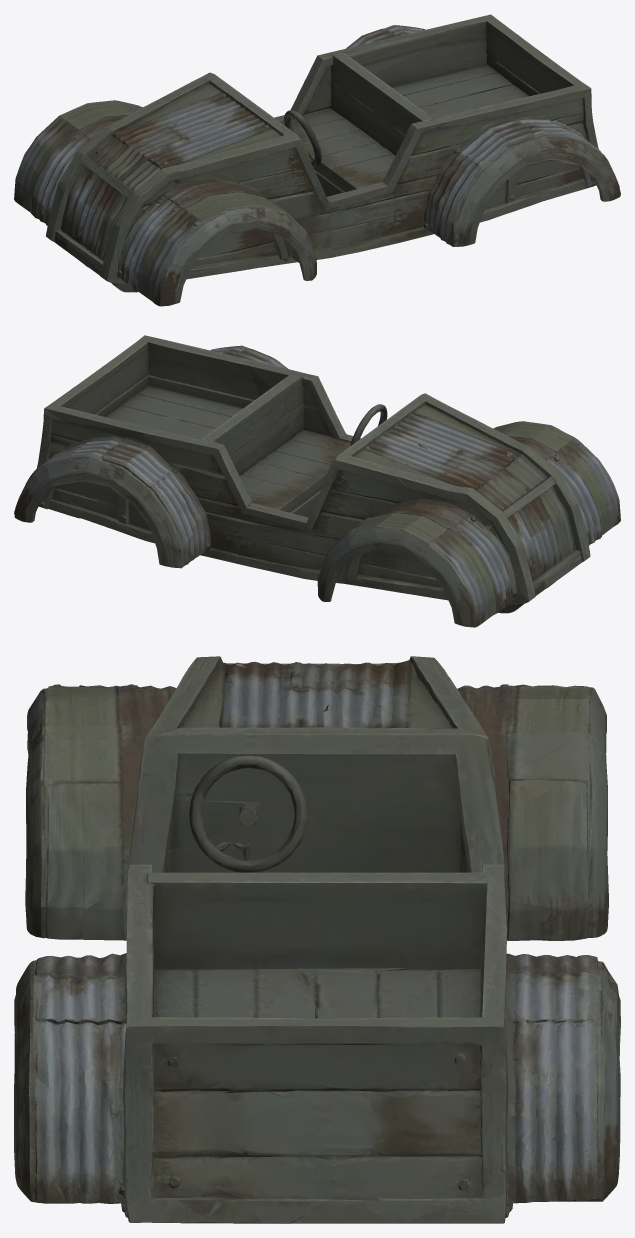
Rendered from marsh_buggy_body.glb.
The picture shows the model from 3 angles, top to bottom: view 1: azimuth 30°, elevation 25°; view 2: azimuth 150°, elevation 25°; view 3: azimuth 270°, elevation 25°; orthographic projection. The views are drawn at different scales.
Parts seen in each view (by area): view 1: mesh_node; view 2: mesh_node; view 3: mesh_node.
Part boxes in pixels (<box>): mesh_node: <box>14,14,620,306</box>; mesh_node: <box>14,335,620,627</box>; mesh_node: <box>14,656,620,1223</box>.
Bounding box in the file's own units: 1.9 × 0.5102 × 1.1.
Materials: 1 (1 with a texture image).
